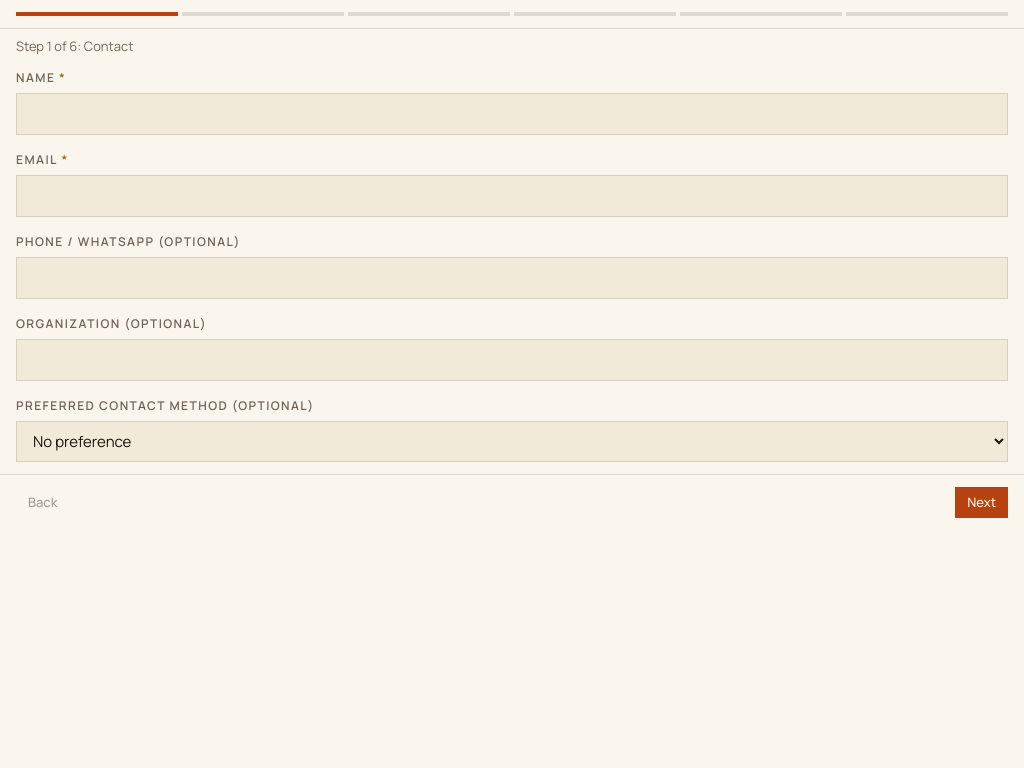
Test: ProjectDiscoveryWizard › blocks navigation past the contact step without a valid name and email
Click the button "Next" at (982, 502), box [955,486,1008,518]
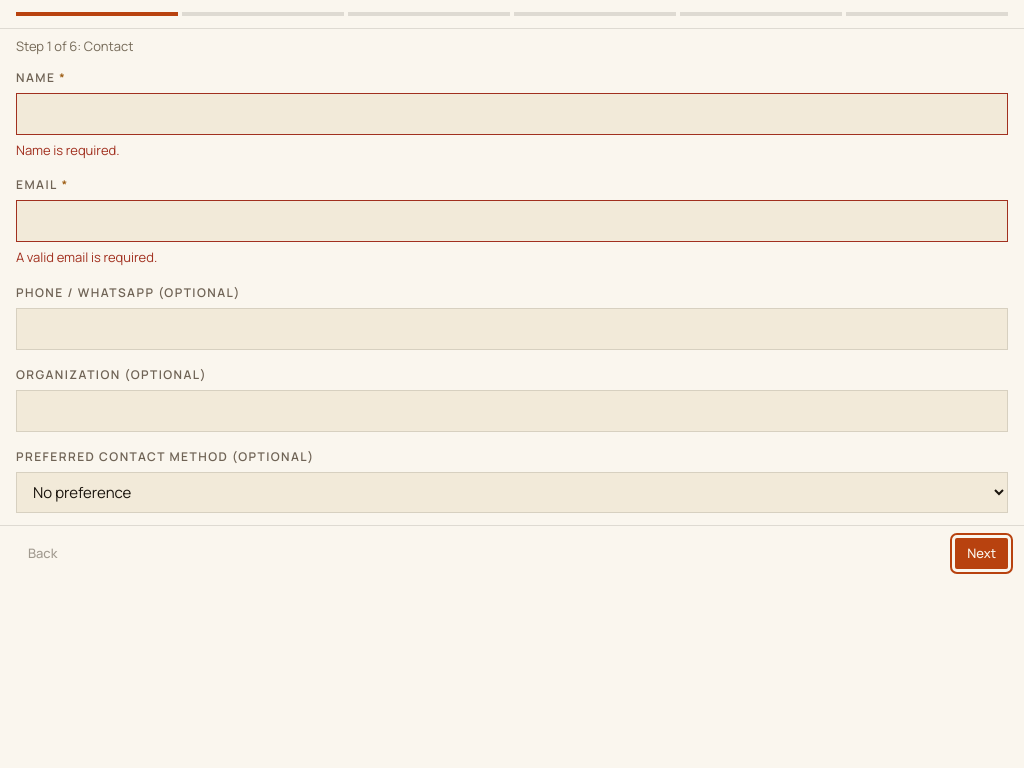
Expected: the text "Step 1 of 6: Contact" is shown, [16,37,133,55]
Expected: the text "Name is required." is shown, [16,140,120,158]
